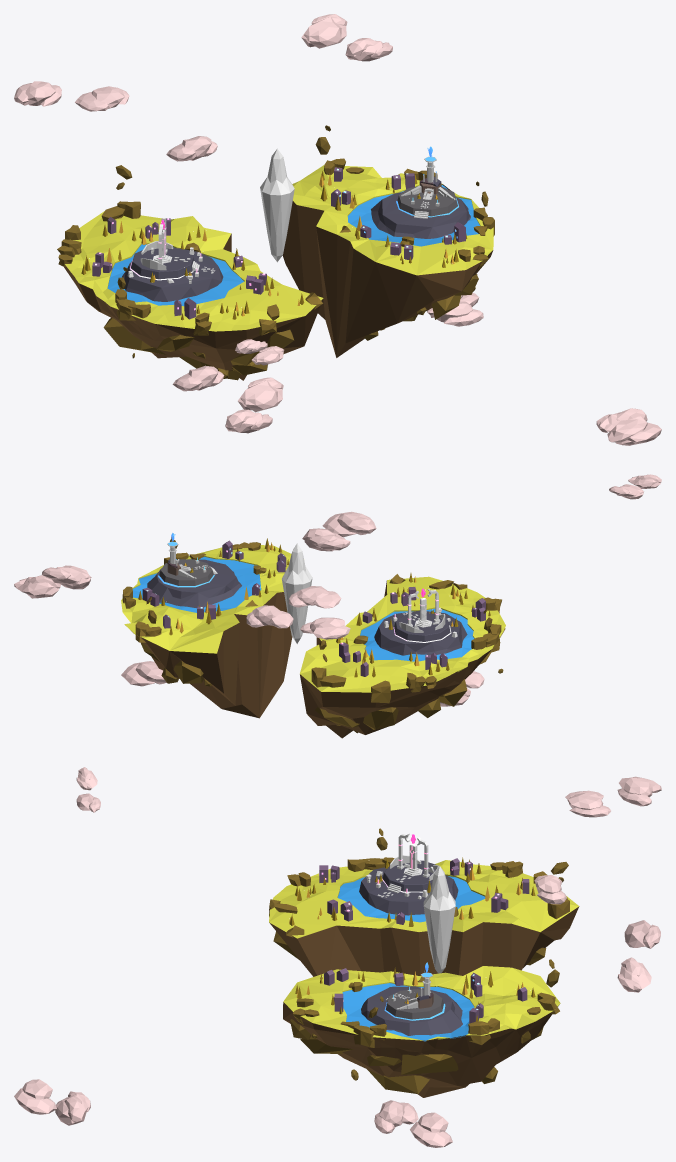
The model's file is Islands.glb.
3 renders of one model, top to bottom at view 1: azimuth 30°, elevation 25°; view 2: azimuth 150°, elevation 25°; view 3: azimuth 270°, elevation 25°, orthographic. The views are drawn at different scales.
Visible parts, largest first — view 1: Cylinder.029, Cylinder.087, Cylinder.022, TourMilieu, SocleTour01, SOL, Nuage02.012, Nuage02.010, SOL.003, Nuage01.000, Nuage05.025, Nuage05.026 (+7 smaller); view 2: Cylinder.029, Cylinder.087, Cylinder.022, SocleTour01, TourMilieu, Nuage01.000, SOL, SOL.003, Nuage05.026, Nuage02.012, Nuage05.027, Nuage01.008 (+6 smaller); view 3: Cylinder.087, Cylinder.029, Cylinder.022, TourMilieu, SocleTour01, SOL.003, Nuage01.000, Nuage01.008, Icosphere.107, Nuage05.028, Nuage05.025, SOL (+6 smaller).
Part boxes in pixels (left/top/right/bottom): Cylinder.029: left=282, top=165, right=493, bottom=357; Cylinder.087: left=64, top=211, right=323, bottom=380; Cylinder.022: left=371, top=192, right=470, bottom=238; TourMilieu: left=260, top=148, right=294, bottom=262; SocleTour01: left=122, top=248, right=223, bottom=301; SOL: left=131, top=247, right=194, bottom=279; Nuage02.012: left=301, top=14, right=347, bottom=48; Nuage02.010: left=238, top=377, right=283, bottom=412; SOL.003: left=397, top=186, right=457, bottom=216; Nuage01.000: left=607, top=419, right=661, bottom=445; Nuage05.025: left=14, top=81, right=61, bottom=106; Nuage05.026: left=75, top=86, right=129, bottom=111; Cylinder.029: left=121, top=545, right=292, bottom=718; Cylinder.087: left=300, top=576, right=505, bottom=738; Cylinder.022: left=147, top=559, right=241, bottom=608; SocleTour01: left=374, top=610, right=467, bottom=655; TourMilieu: left=282, top=543, right=312, bottom=643; Nuage01.000: left=322, top=511, right=376, bottom=537; SOL: left=394, top=612, right=450, bottom=641; SOL.003: left=159, top=559, right=213, bottom=585; Nuage05.026: left=288, top=586, right=341, bottom=608; Nuage02.012: left=42, top=565, right=91, bottom=589; Nuage05.027: left=246, top=605, right=293, bottom=628; Nuage01.008: left=121, top=661, right=166, bottom=686; Cylinder.087: left=269, top=860, right=579, bottom=976; Cylinder.029: left=283, top=966, right=560, bottom=1097; Cylinder.022: left=361, top=986, right=462, bottom=1035; TourMilieu: left=423, top=866, right=455, bottom=973; SocleTour01: left=359, top=867, right=458, bottom=915; SOL.003: left=385, top=989, right=443, bottom=1019; Nuage01.000: left=14, top=1079, right=56, bottom=1114; Nuage01.008: left=410, top=1112, right=452, bottom=1147; Icosphere.107: left=401, top=1054, right=458, bottom=1074; Nuage05.028: left=374, top=1100, right=418, bottom=1133; Nuage05.025: left=617, top=776, right=661, bottom=806; SOL: left=382, top=860, right=437, bottom=891.
Bounding box in the file's own units: 131 × 68.6 × 173.
